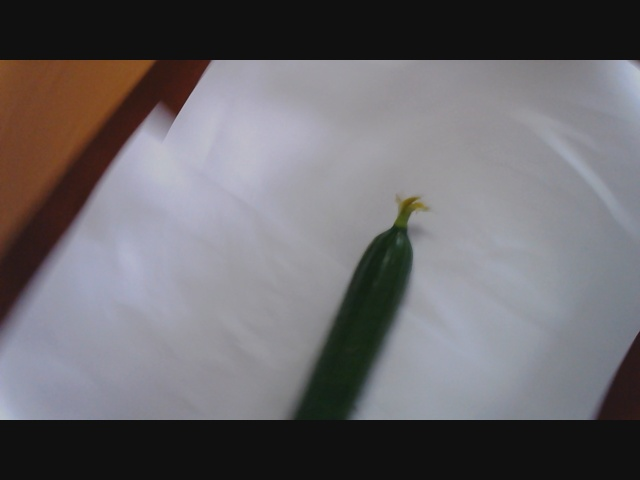cucumber: (276, 195, 434, 422)
